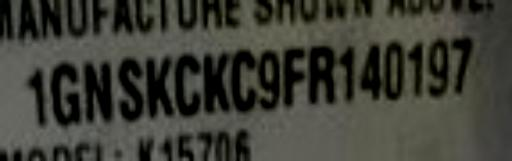letter: (78, 57, 118, 124), (144, 49, 178, 120), (304, 42, 340, 109), (46, 60, 82, 127), (200, 46, 232, 117), (229, 46, 261, 113), (171, 50, 203, 117), (114, 53, 146, 120), (379, 35, 407, 106), (447, 32, 475, 99), (404, 35, 432, 102), (358, 39, 386, 106), (333, 39, 361, 106), (279, 42, 307, 109), (254, 46, 282, 113), (426, 36, 454, 99), (24, 64, 50, 127)
